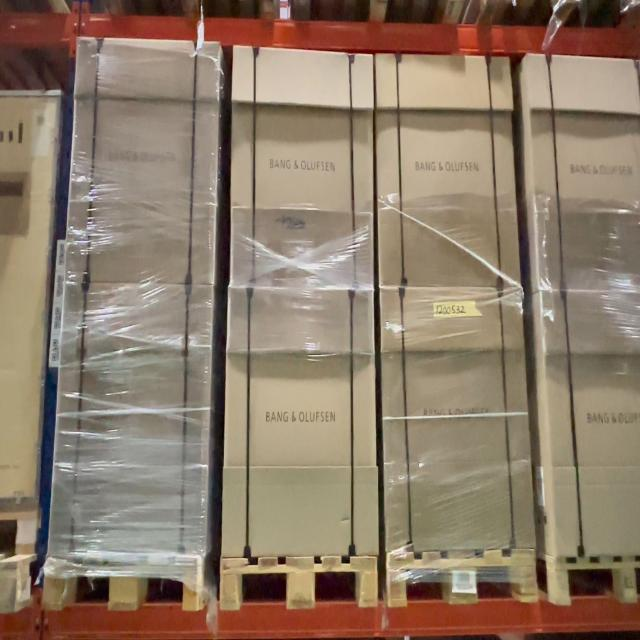box: (47, 285, 214, 557), (220, 288, 378, 560), (381, 288, 535, 554), (64, 40, 221, 289), (229, 46, 374, 287), (376, 58, 520, 291)
